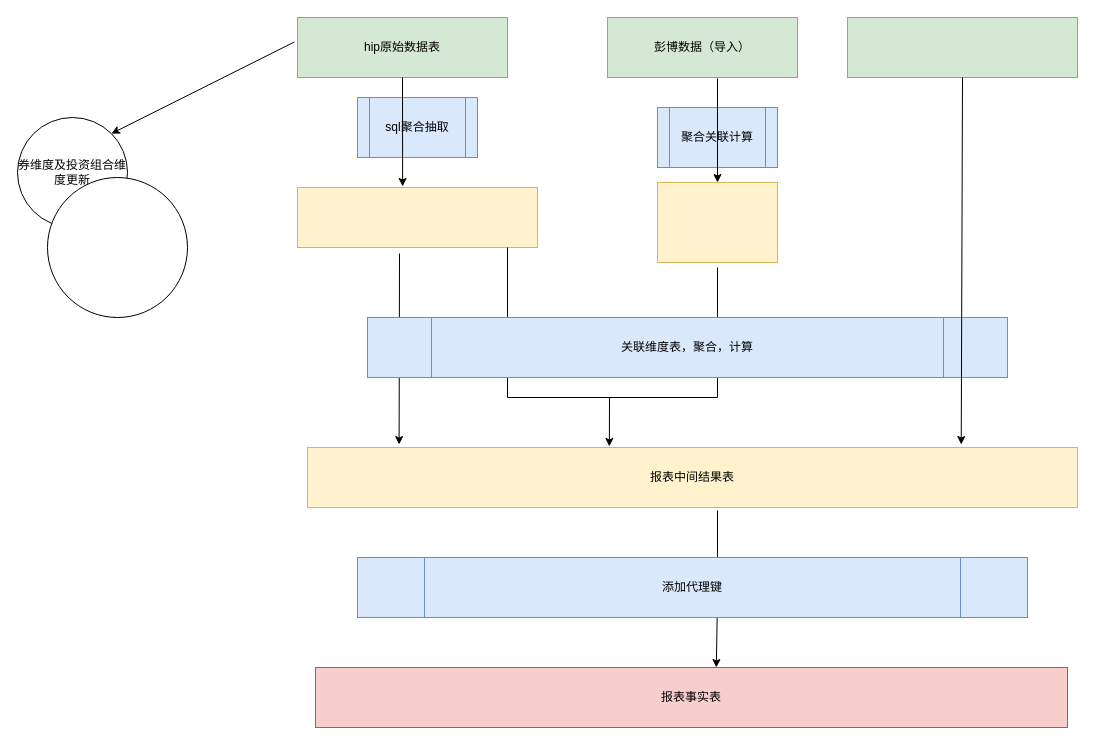
This 1095x745 diagram has some shape labels left out. Here are the shapes that lost their labels. From the top down, the centre of each, then its label:
point 962,47: 财务同步数据
point 417,217: 券持仓数据表
point 717,222: 债券彭博部分调整表
point 117,247: 地区维度，币种维度、行业分类维度等
